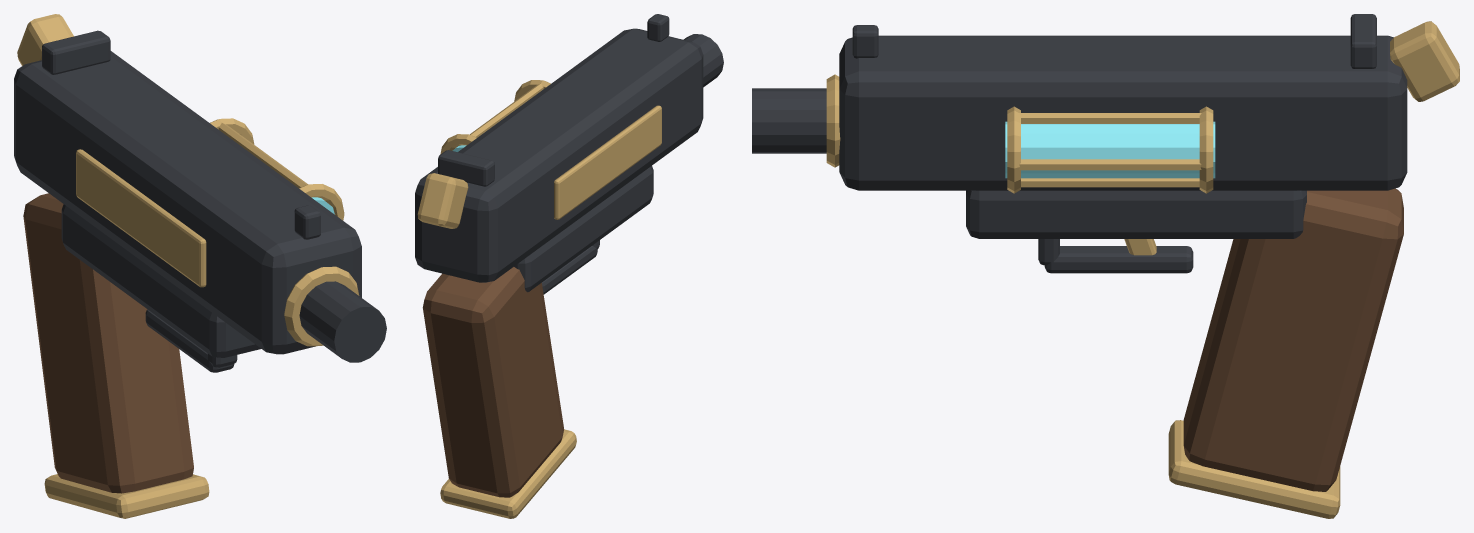
File: Pistolet_Fractureur.fbx
3 renders of one model, left to right at view 1: azimuth 30°, elevation 25°; view 2: azimuth 150°, elevation 25°; view 3: azimuth 270°, elevation 25°, orthographic. The views are drawn at different scales.
Parts seen in each view (by area): view 1: Pistolet_Fractureur_Metal, Pistolet_Fractureur_Cuir, Pistolet_Fractureur_Laiton; view 2: Pistolet_Fractureur_Metal, Pistolet_Fractureur_Cuir, Pistolet_Fractureur_Laiton; view 3: Pistolet_Fractureur_Metal, Pistolet_Fractureur_Cuir, Pistolet_Fractureur_Laiton, Pistolet_Fractureur_Noyau.
Part boxes in pixels (bbox=[...]): Pistolet_Fractureur_Metal: bbox=[14, 30, 386, 372]; Pistolet_Fractureur_Cuir: bbox=[23, 193, 193, 493]; Pistolet_Fractureur_Laiton: bbox=[17, 14, 359, 518]; Pistolet_Fractureur_Metal: bbox=[415, 14, 723, 294]; Pistolet_Fractureur_Cuir: bbox=[422, 267, 563, 497]; Pistolet_Fractureur_Laiton: bbox=[417, 80, 661, 518]; Pistolet_Fractureur_Metal: bbox=[752, 14, 1407, 273]; Pistolet_Fractureur_Cuir: bbox=[1183, 188, 1403, 491]; Pistolet_Fractureur_Laiton: bbox=[826, 21, 1459, 518]; Pistolet_Fractureur_Noyau: bbox=[1005, 121, 1215, 178].
Bounding box in the file's own units: 46 × 119 × 162.
